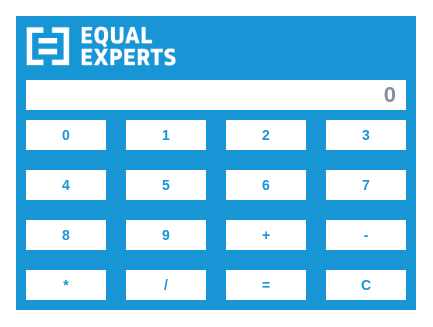
Test case: Calculator › Should clear the display if digits entered
Click the button "1".
click(166, 135)  # box [126,120,206,150]
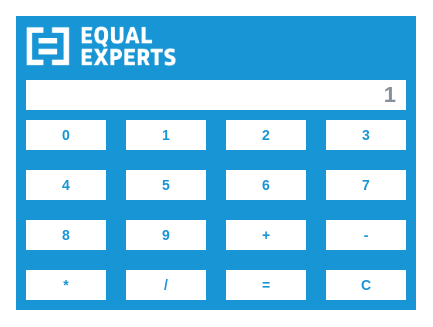
Click the button "2".
click(266, 135)  # box [226,120,306,150]
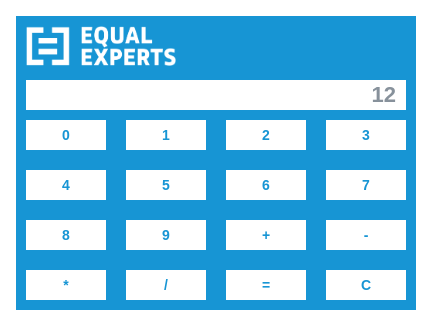
Click the button "3".
click(366, 135)  # box [326,120,406,150]
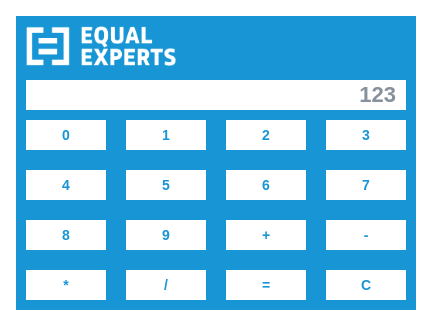
Expected: the field holds "123", [26,80,406,110]
Click the button "C".
click(366, 285)  # box [326,270,406,300]
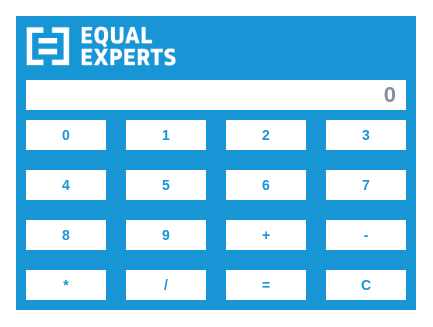
Expected: the field holds "0", [26,80,406,110]
